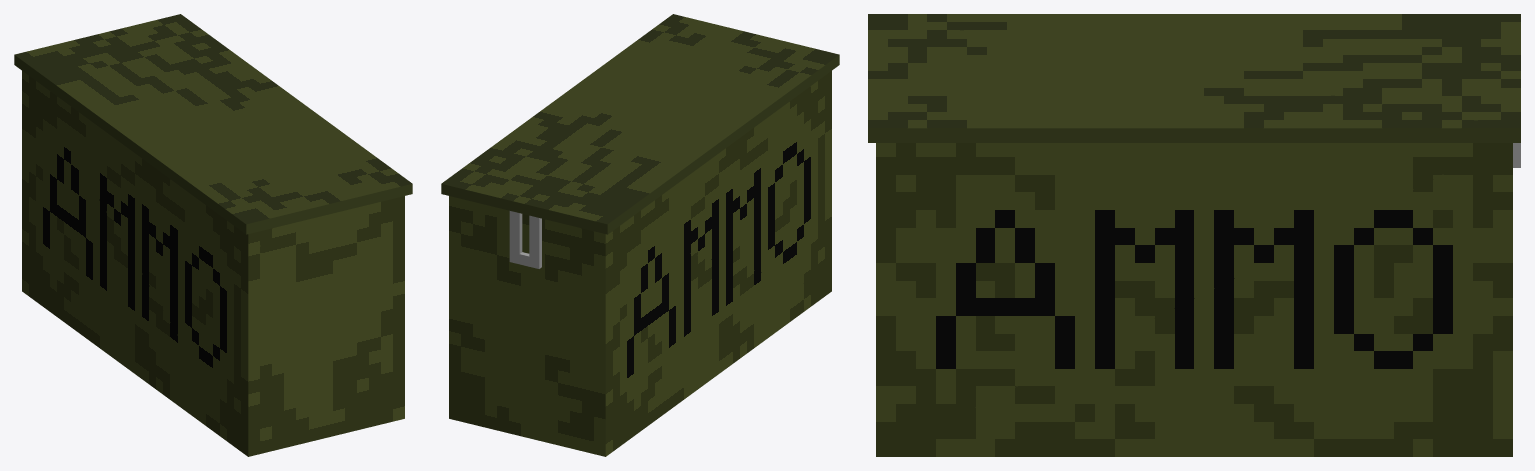
The model's file is ammo.gltf.
The picture shows the model from 3 angles, left to right: view 1: azimuth 30°, elevation 25°; view 2: azimuth 150°, elevation 25°; view 3: azimuth 270°, elevation 25°; orthographic projection. The views are drawn at different scales.
Visible parts, largest first — view 1: mesh (×2); view 2: mesh (×2), latch; view 3: mesh (×2).
Part boxes in pixels (bbox=[...]): mesh (×2): bbox=[14, 14, 412, 456]; mesh (×2): bbox=[441, 14, 839, 456]; latch: bbox=[509, 211, 541, 268]; mesh (×2): bbox=[868, 14, 1520, 456].
Bounding box in the file's own units: 0.2125 × 0.2875 × 0.5125.
Materials: 3 (3 with a texture image).
